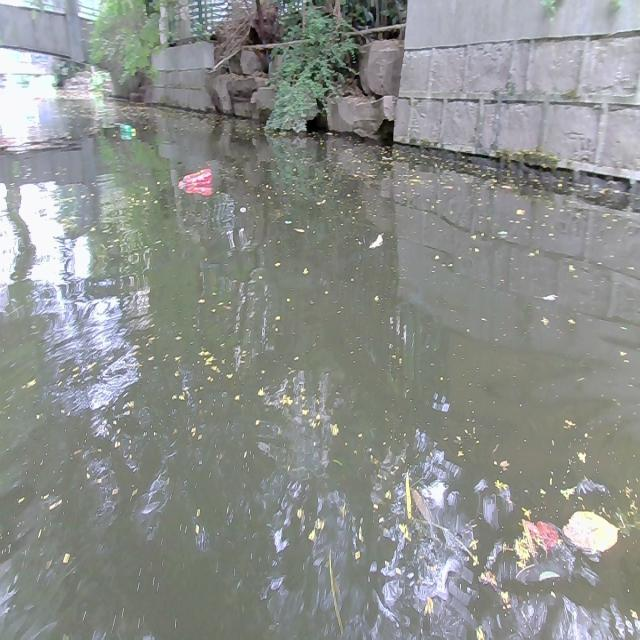bottle: (177, 166, 215, 190), (118, 121, 136, 135)
